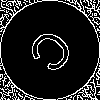C: (25, 25, 84, 83)
